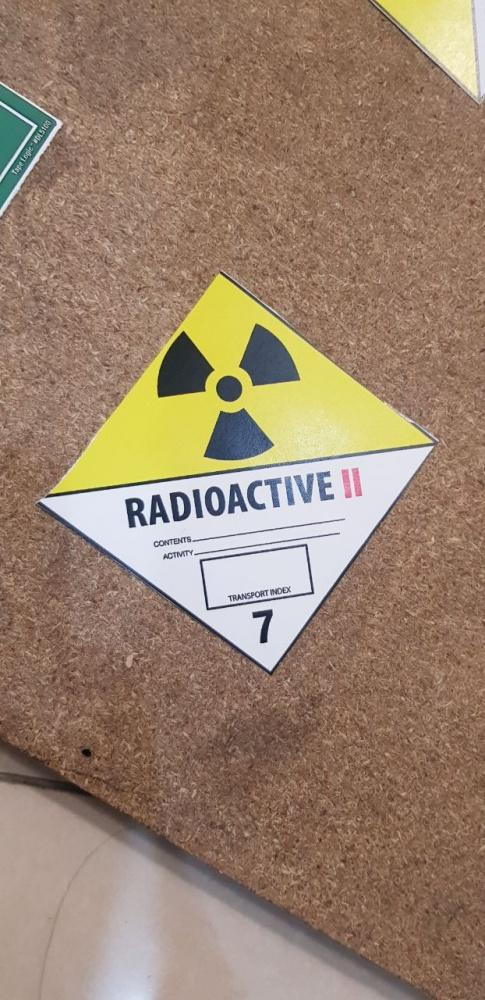radioactive: (41, 273, 440, 674)
